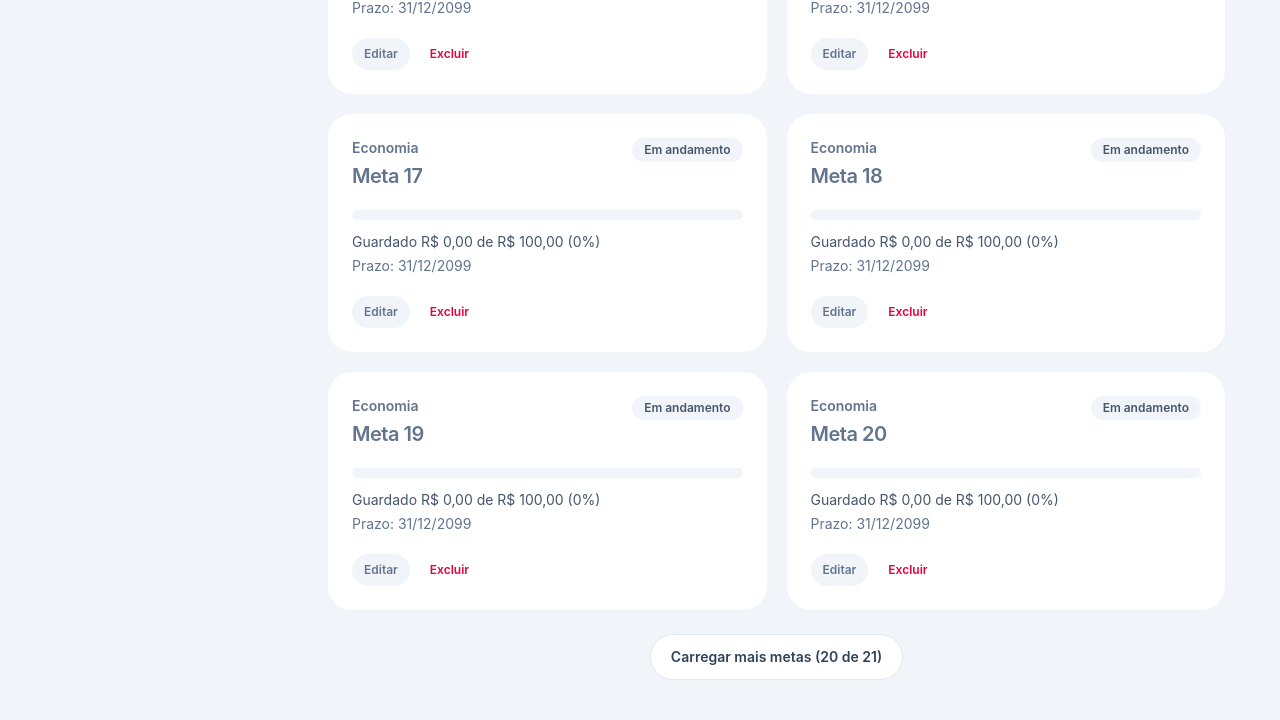
Test: GoalsPage (GOAL-03) › carrega as metas além da primeira página
The image size is (1280, 720).
(page scrolled)
Check: the text "Meta 21" is not shown
Click the button "Carregar mais metas (20 de 21)".
click(777, 657)  # box [650,634,903,680]
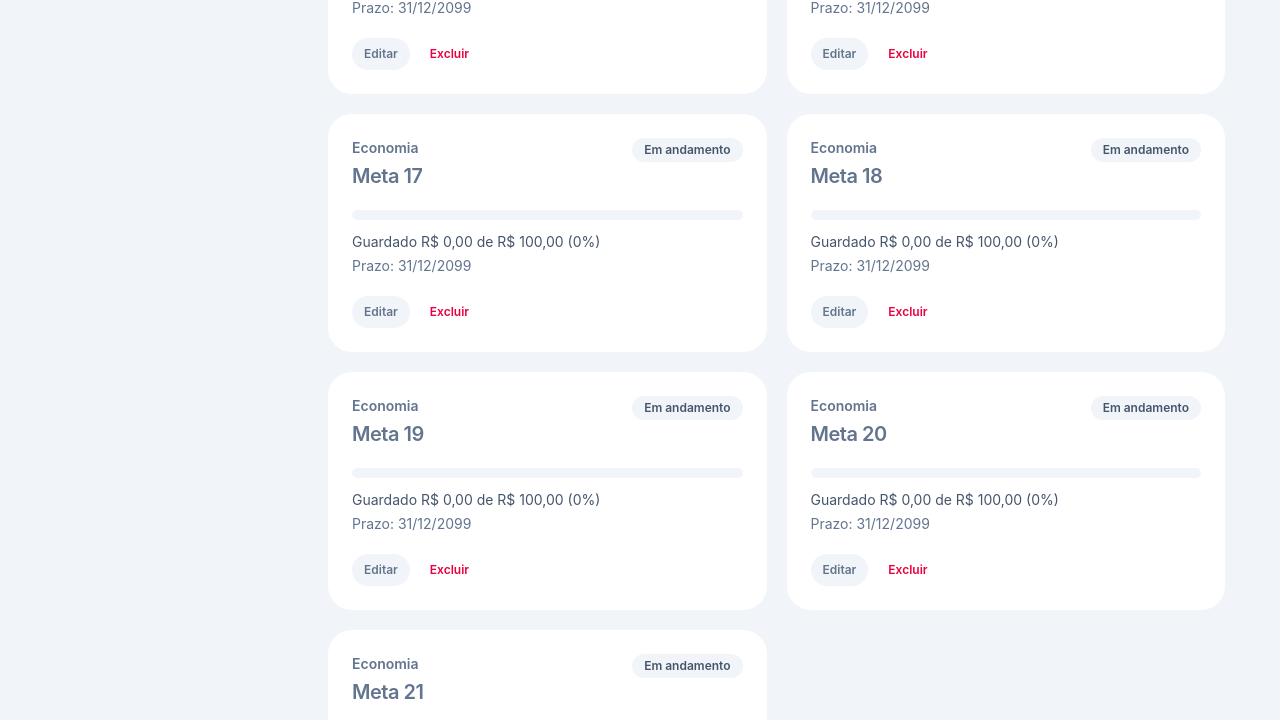
Check: the heading "Meta 21" is shown, box [352,678,423,706]
Check: the button "Carregar mais metas" is gone
